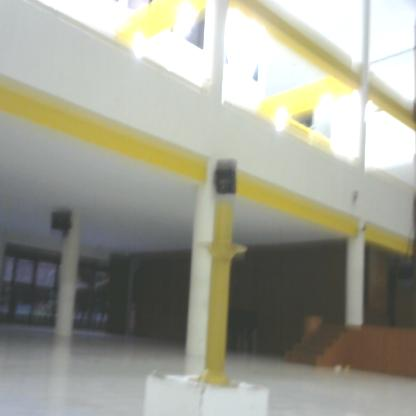pole: (187, 202, 251, 401)
